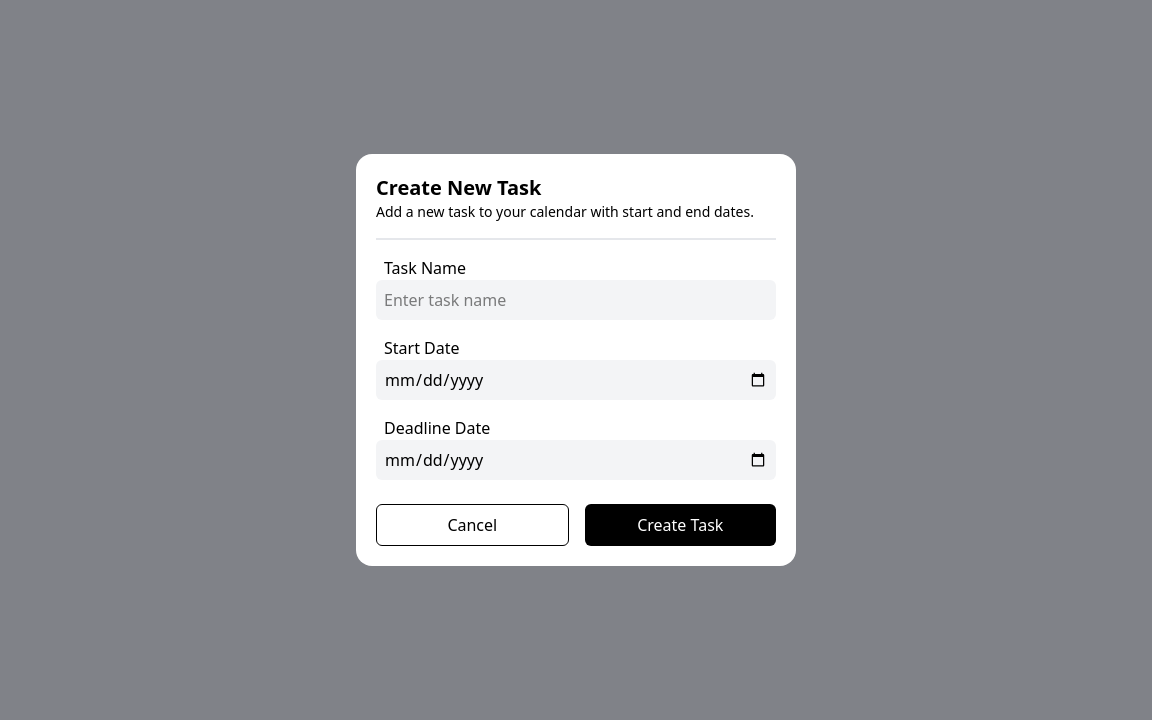
NewTask › shows validation error for a task name shorter than 3 characters
In the field with placeholder "Enter task name": x=576, y=300 [376,280,776,320], type "AB"
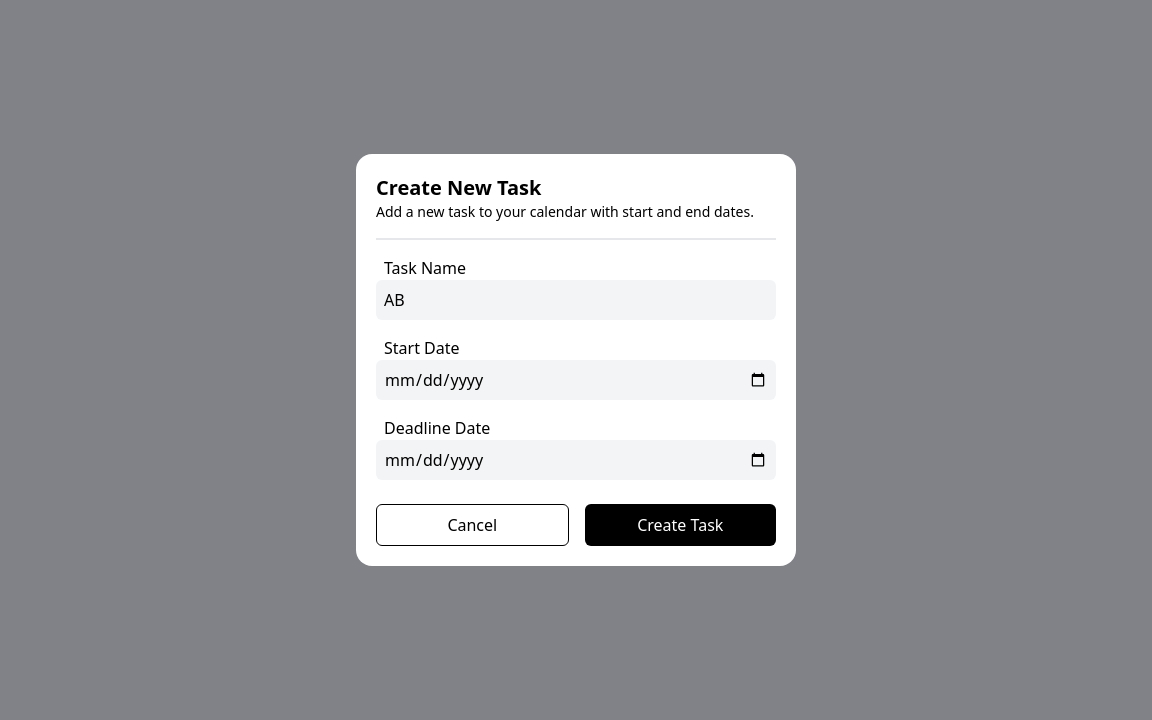
In the date field labelled "Start Date": x=576, y=380 [376,360,776,400], type "2025-07-01"
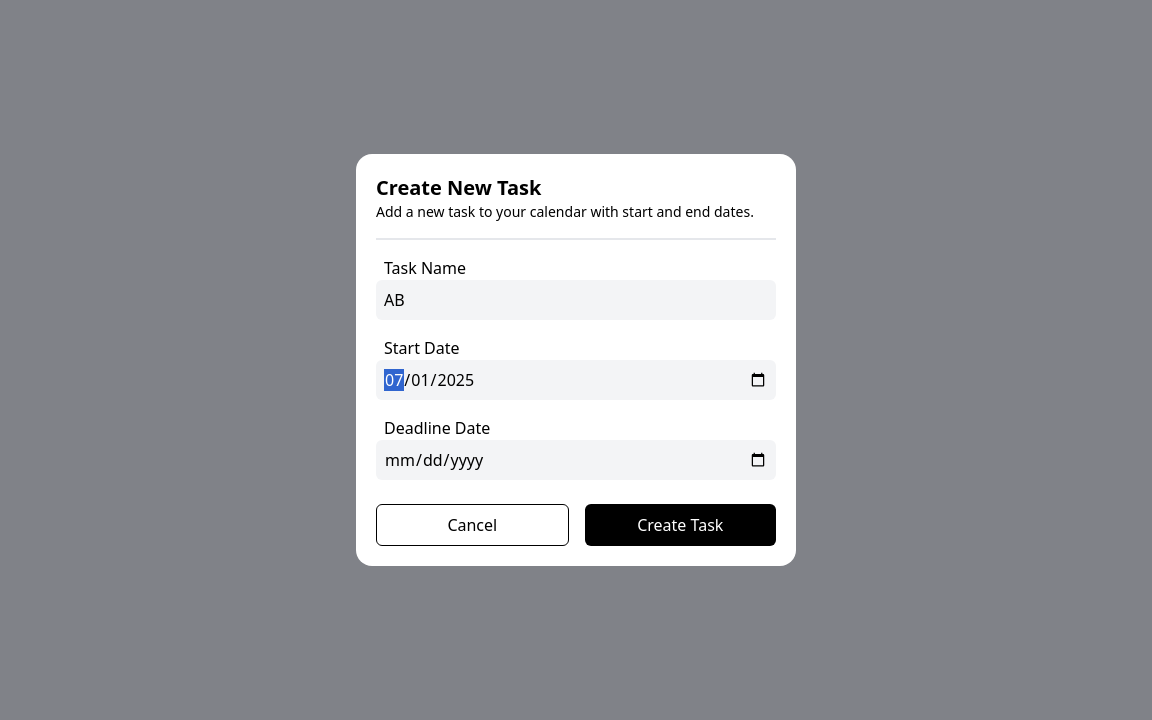
In the date field labelled "Deadline Date": x=576, y=460 [376,440,776,480], type "2025-07-10"
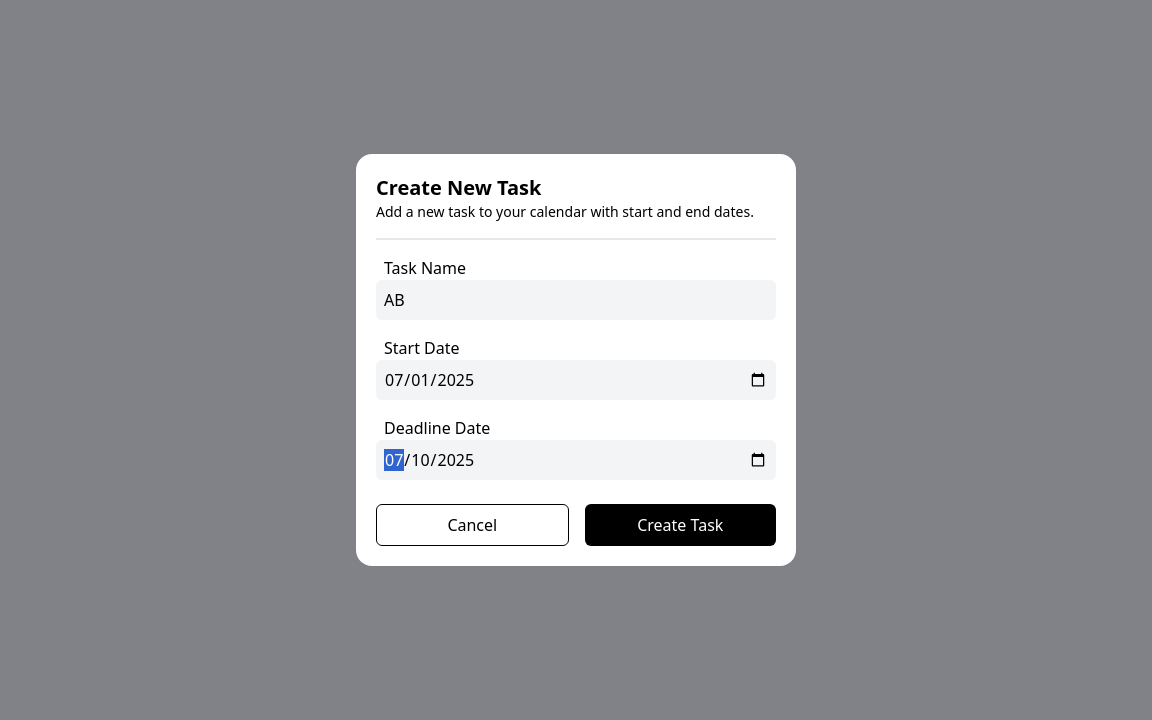
Click the button "Create Task": x=680, y=525 [585,504,776,546]
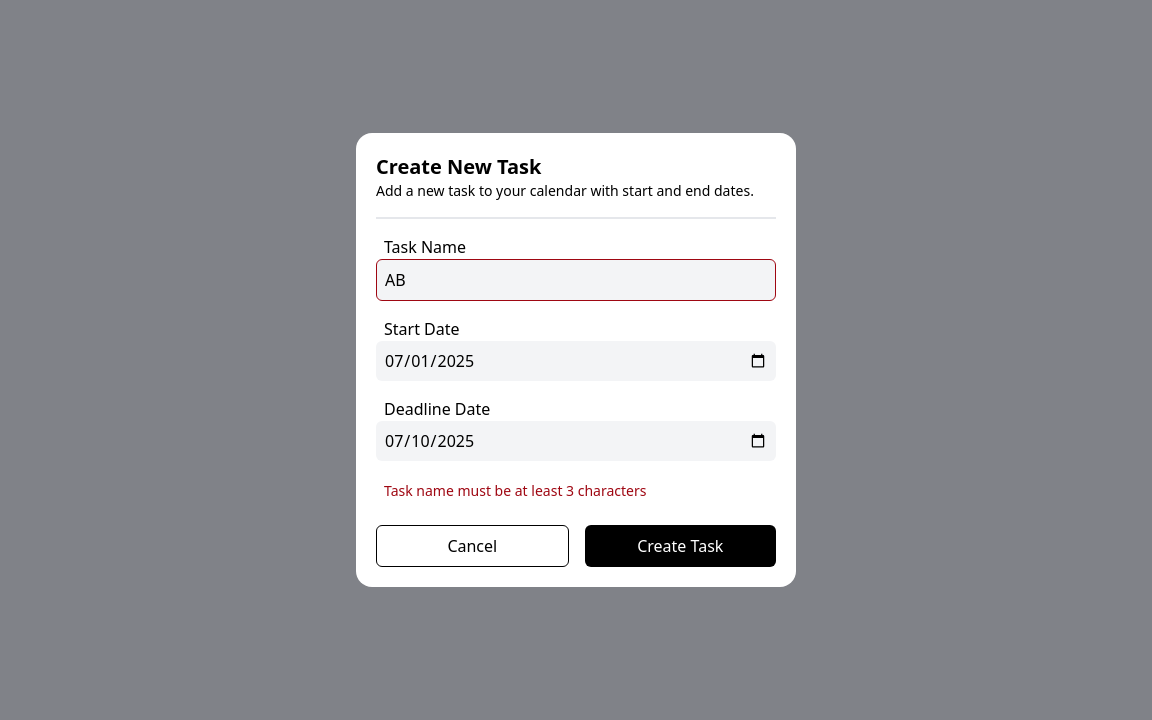
Expected: the text "Task name must be at least 3 characters" is shown, [384,481,646,500]
